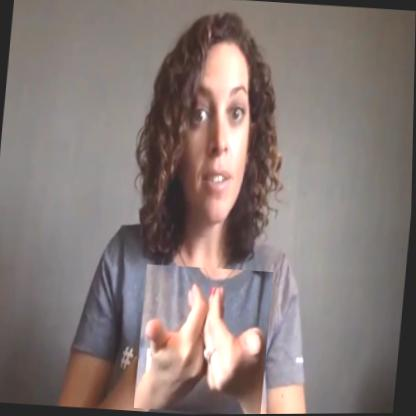HowAreYou: (136, 264, 274, 415)
